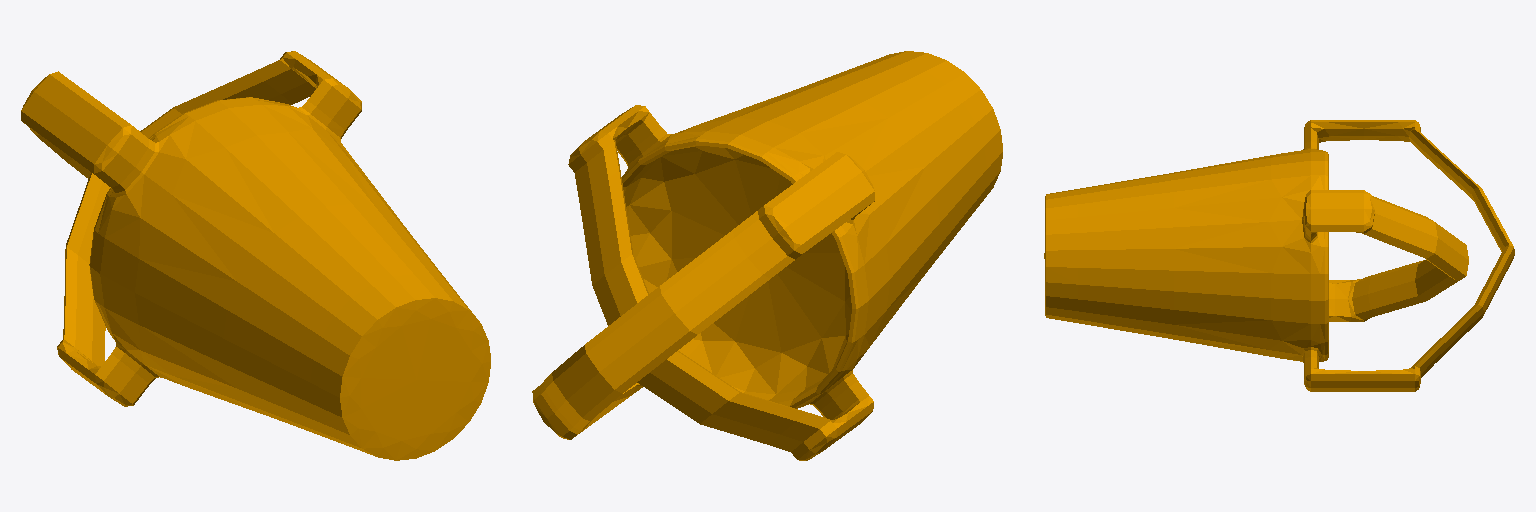
The robot description file, URDF, robot "180":
<?xml version="1.0" ?>
<robot name="180">
  <link name="body">
    <visual>
      <geometry>
        <mesh filename="../shapes/180.obj"/>
      </geometry>
    </visual>
    <collision>
      <geometry>
        <mesh filename="../shapes/180.obj"/>
      </geometry>
    </collision>
  </link>
</robot>

--- What the picture shows (computed from the rendered views, not written in the file) ---
Views: 3 orthographic renders of the robot side by side, from view 1: azimuth 30°, elevation 25°; view 2: azimuth 150°, elevation 25°; view 3: azimuth 270°, elevation 25°.
Robot: 180 — 1 links, 0 joints (none); root link body; default pose: every joint at zero.
Visible links, largest first — view 1: body; view 2: body; view 3: body.
Boxes of the visible links, left/top/right/bottom form: body: left=21, top=51, right=490, bottom=460; body: left=532, top=51, right=1002, bottom=460; body: left=1044, top=120, right=1514, bottom=391.
Size in the robot's own frame: 4.07 by 8.69 by 4.07 metres.
1 mesh visuals loaded from 1 distinct referenced files (1 OBJ).